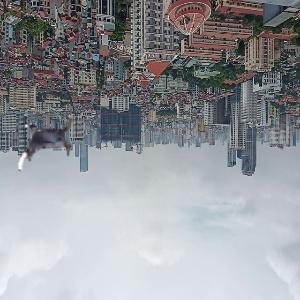drone: (11, 106, 86, 181)
